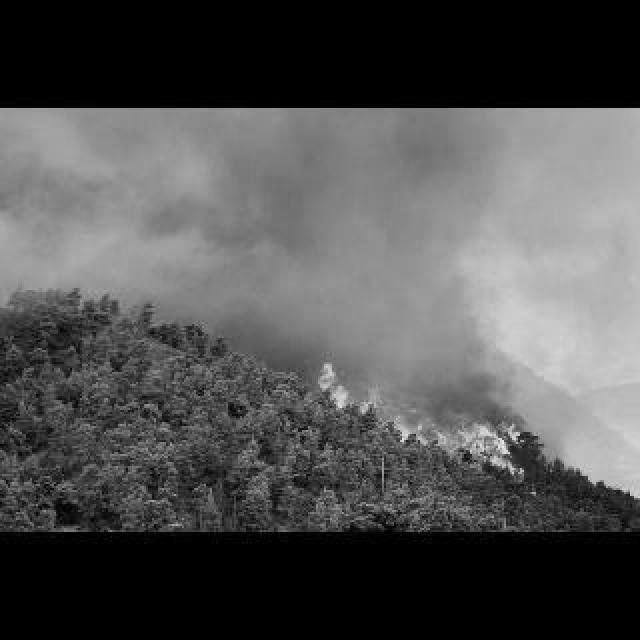Fire: (304, 348, 558, 504)
Smoke: (2, 106, 394, 338), (396, 106, 530, 418)
